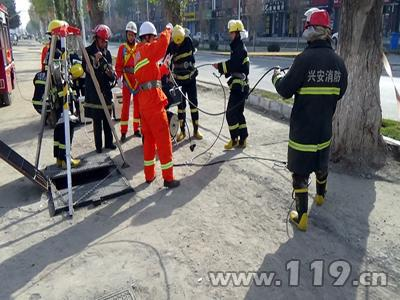helmet: (299, 8, 333, 41), (91, 22, 113, 48), (138, 21, 159, 45), (224, 20, 245, 41), (122, 19, 140, 43)
